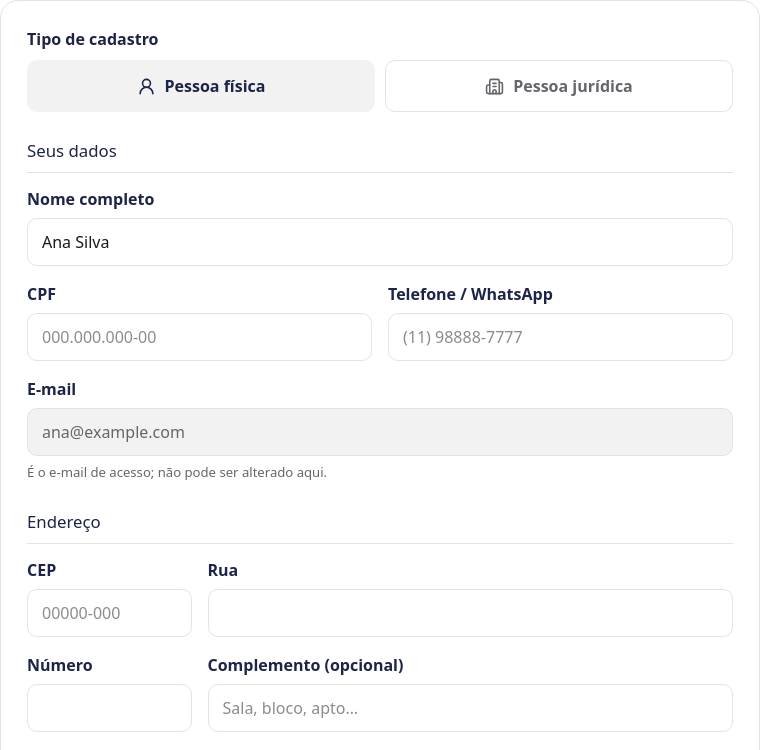
Test: cadastro completo na Minha conta › 'Isento' preenche e trava a inscrição estadual
Click the radio button labelled "Pessoa jurídica".
click(559, 86)  # box x1=385 y1=60 x2=733 y2=112
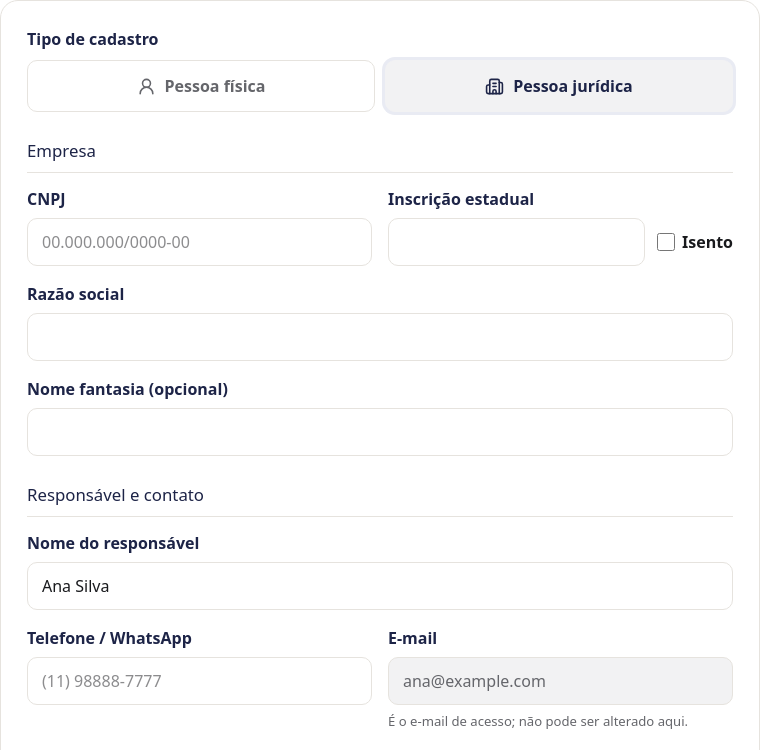
Click the checkbox labelled "Isento".
click(666, 242)  # box x1=657 y1=233 x2=675 y2=251
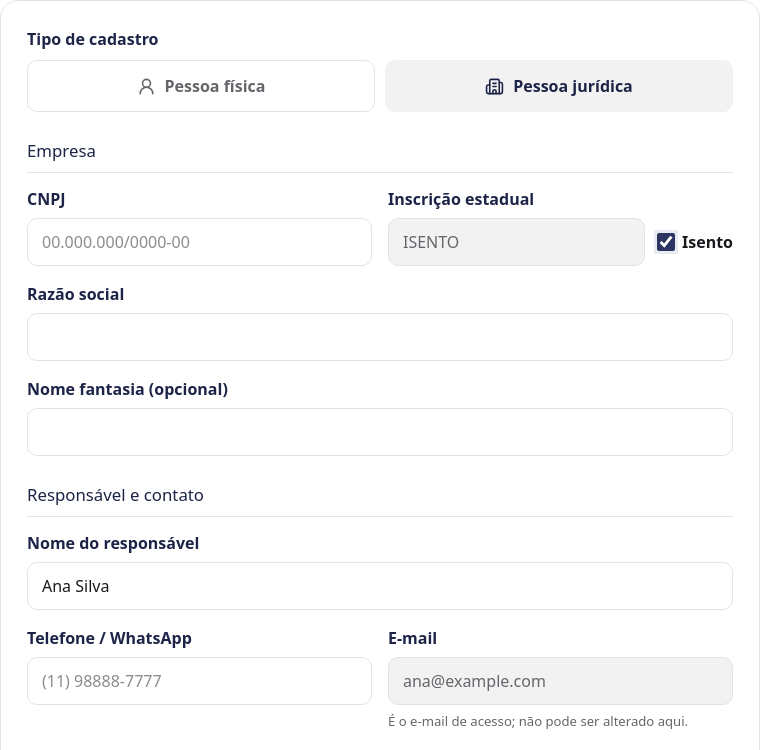
Result: the field labelled "Inscrição estadual" holds "ISENTO" at x1=388 y1=218 x2=645 y2=266
Result: the field labelled "Inscrição estadual" is disabled at x1=388 y1=218 x2=645 y2=266
